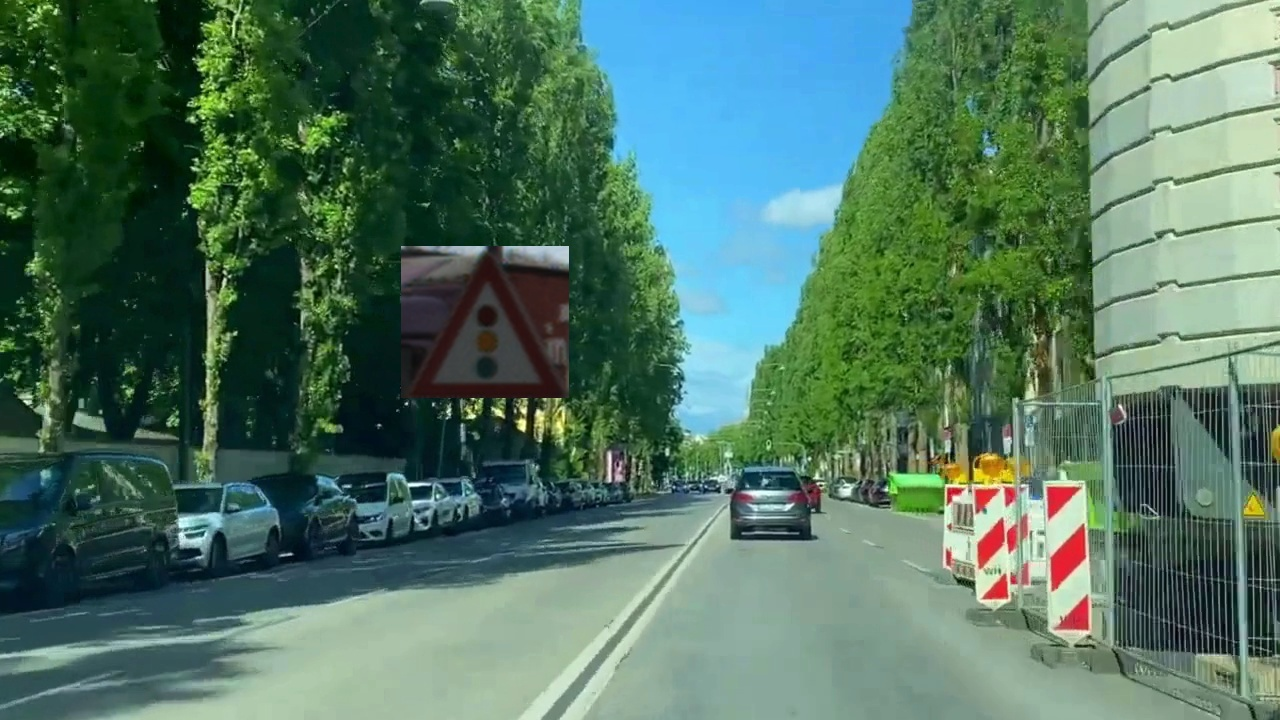Signals: (401, 246, 569, 398)
